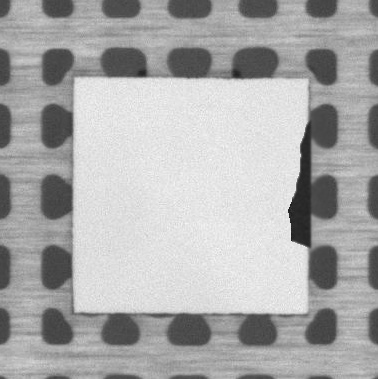DIE_BROKEN: (286, 121, 313, 254)
